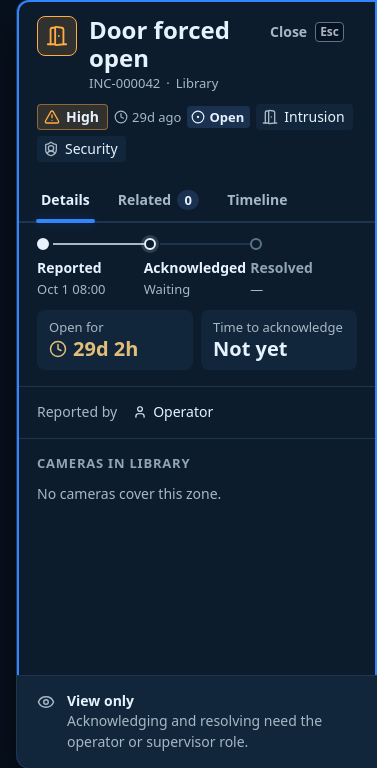
IncidentDetail › actions › offers a viewer a view-only footer instead of a response
expect the element that starts with "View only" is shown: met, box x1=67 y1=691 x2=134 y2=710
expect the element that starts with "View only" shows "Acknowledging and resolving need the operator or supervisor role.": met, box x1=67 y1=711 x2=322 y2=751
Click the tab "Timeline". click: (257, 200)
box: x1=215 y1=178 x2=300 y2=222
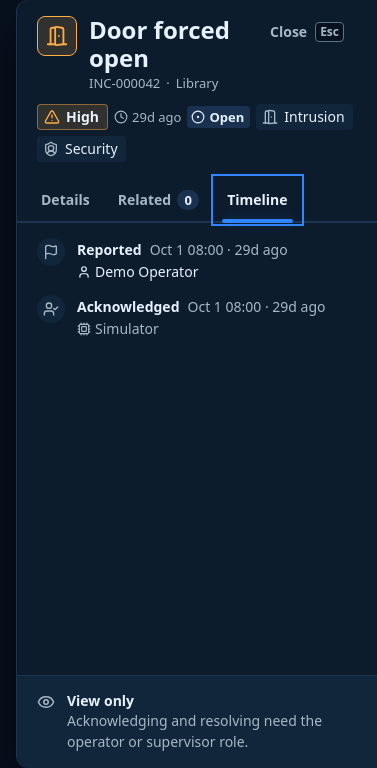
expect the element that starts with "View only" is shown: met, box x1=67 y1=691 x2=134 y2=710
expect the text "Demo Operator" is shown: met, box x1=77 y1=262 x2=198 y2=283
